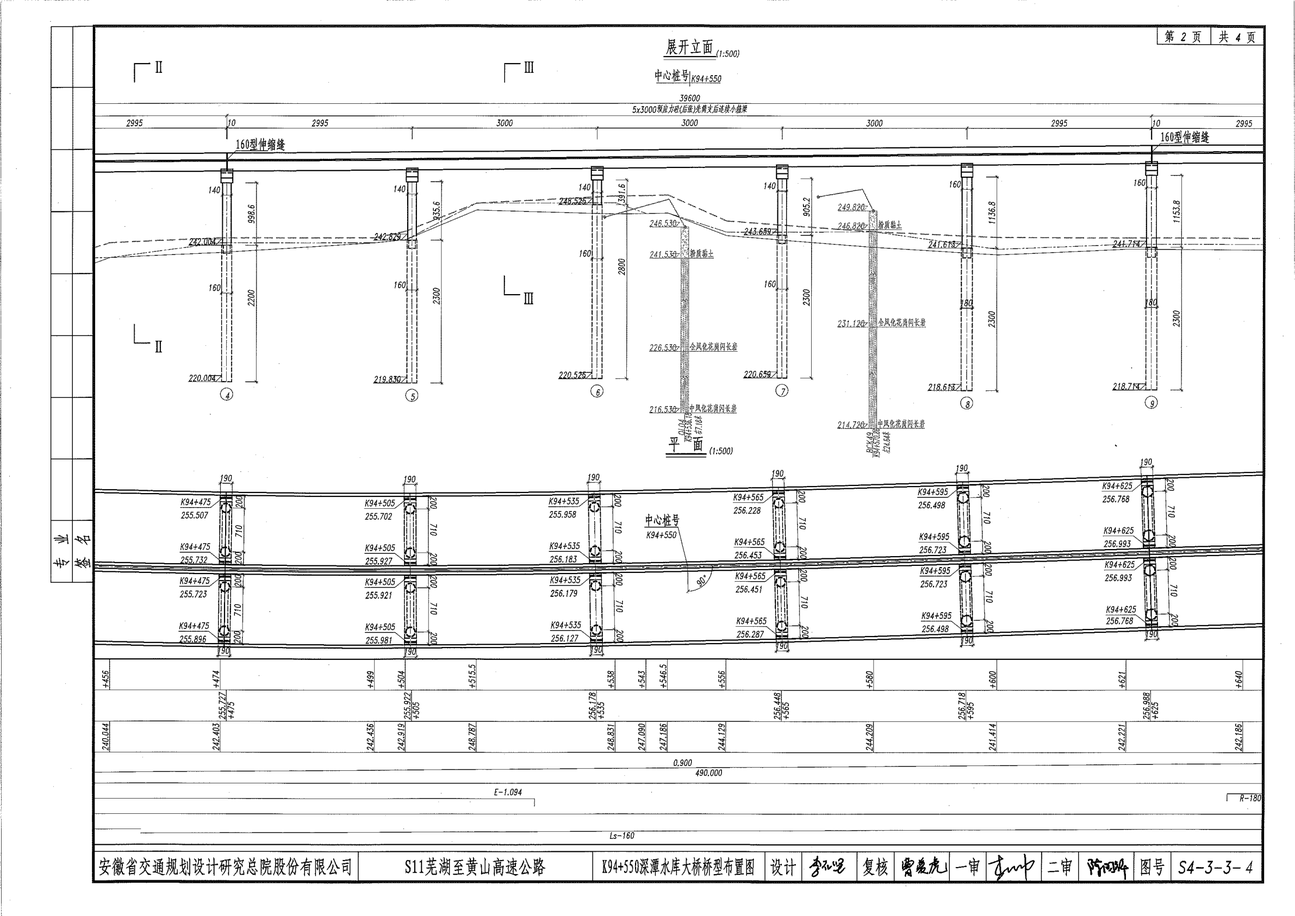A: (73, 30, 1280, 418)
